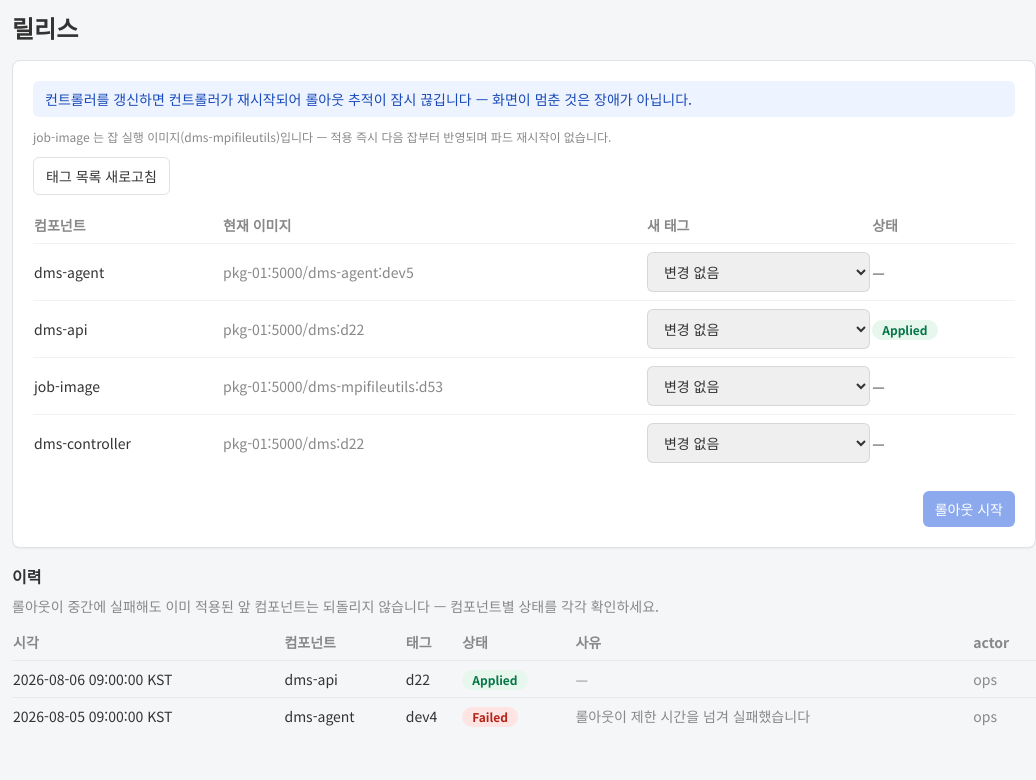
Test case: ReleasesPage › 미검증 제출(tag_verified=false)은 경고 배너를 띄운다
Expected: the heading "릴리스" is shown, [12,12,78,44]
Select "d23" in the dropdown named "dms-api" at (759, 329), box [647,309,870,349]
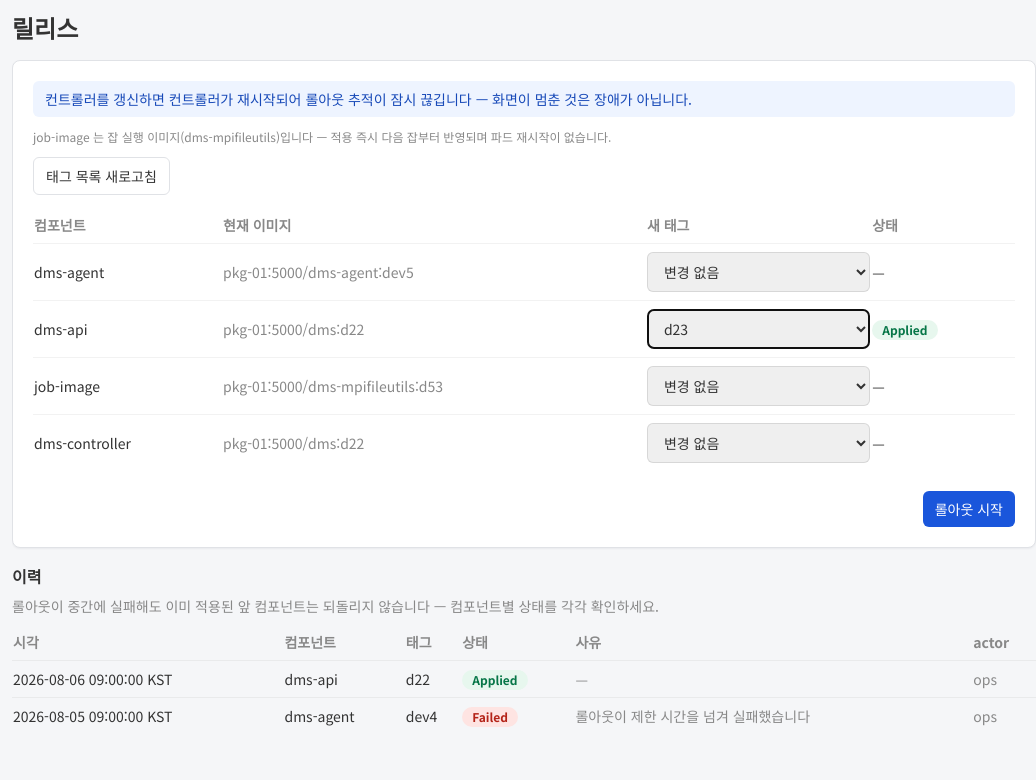
Click the button "롤아웃 시작".
click(969, 509)  # box [923,491,1015,527]
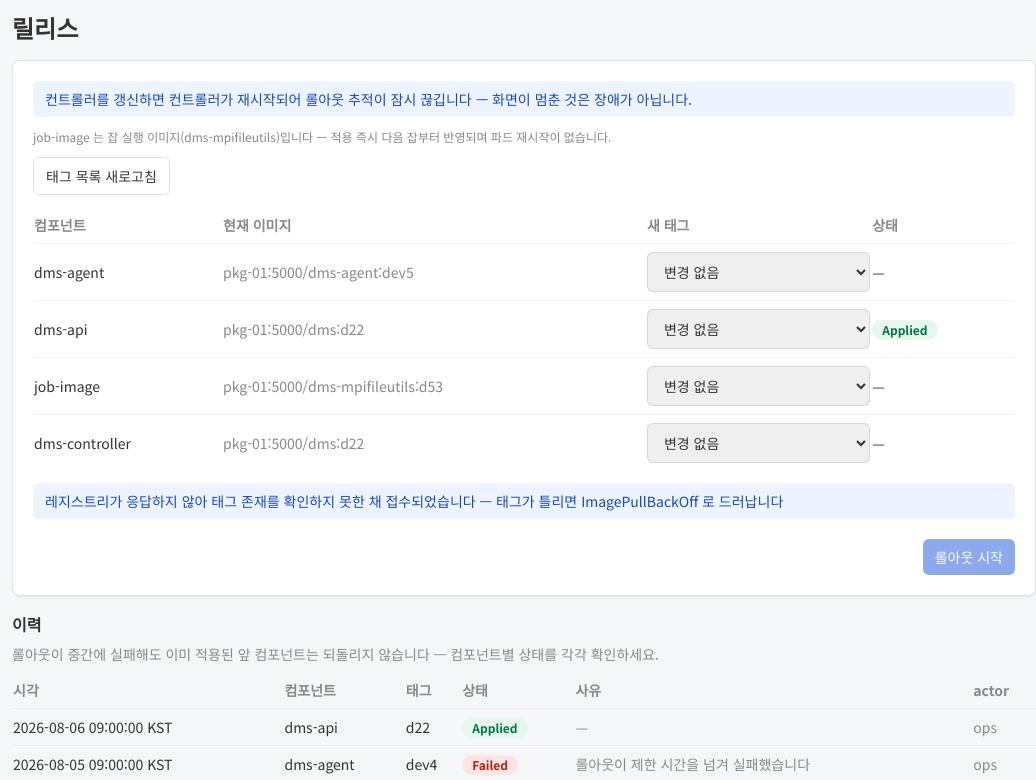
Now the text "태그 존재를 확인하지 못한 채" is shown, box [45,491,783,511]
